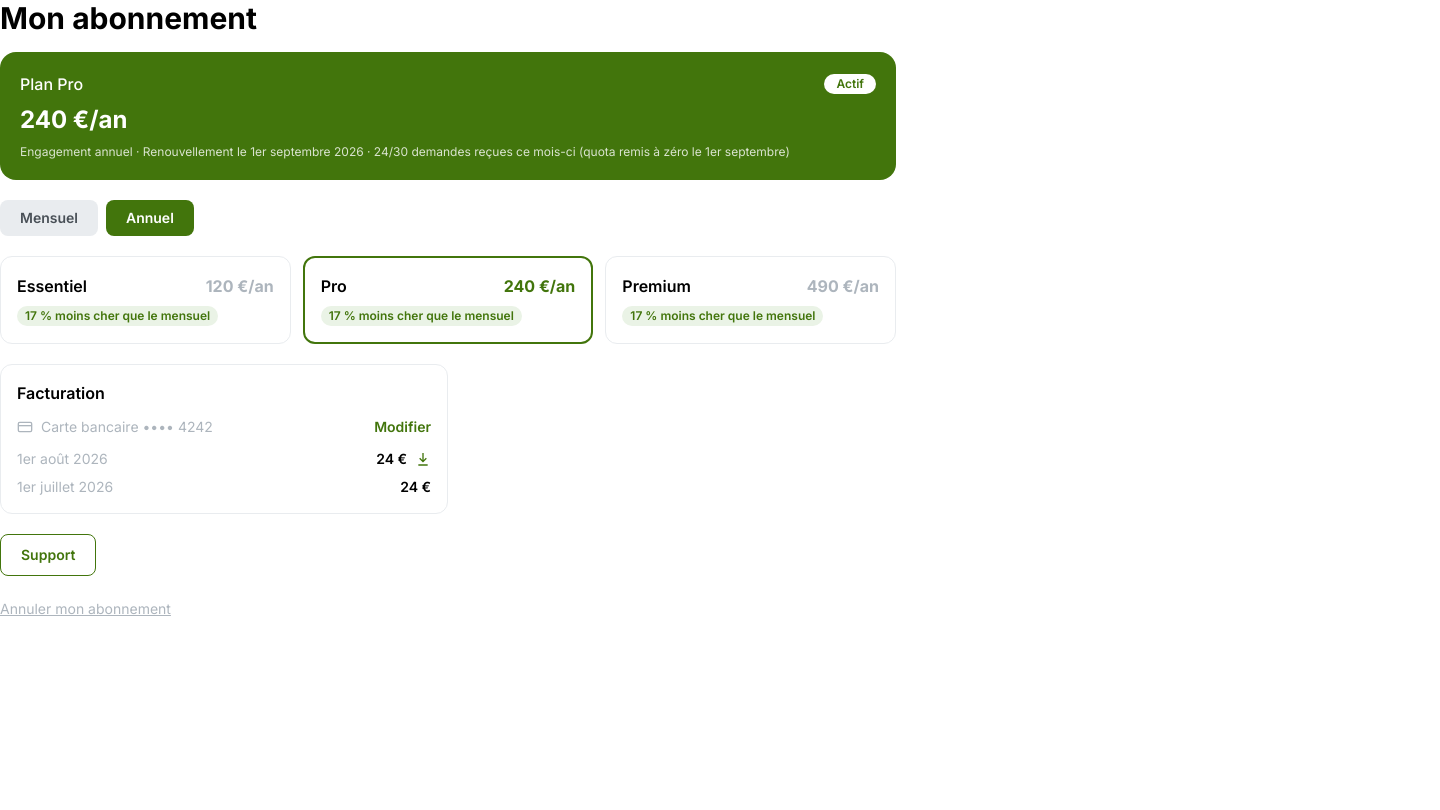
Scenario: SubscriptionComponent › sous engagement annuel, un plan plus haut en mensuel attend aussi la fin de l'engagement
Click the button "Mensuel". click: coordinates (49, 218)
box: [0,200,98,236]
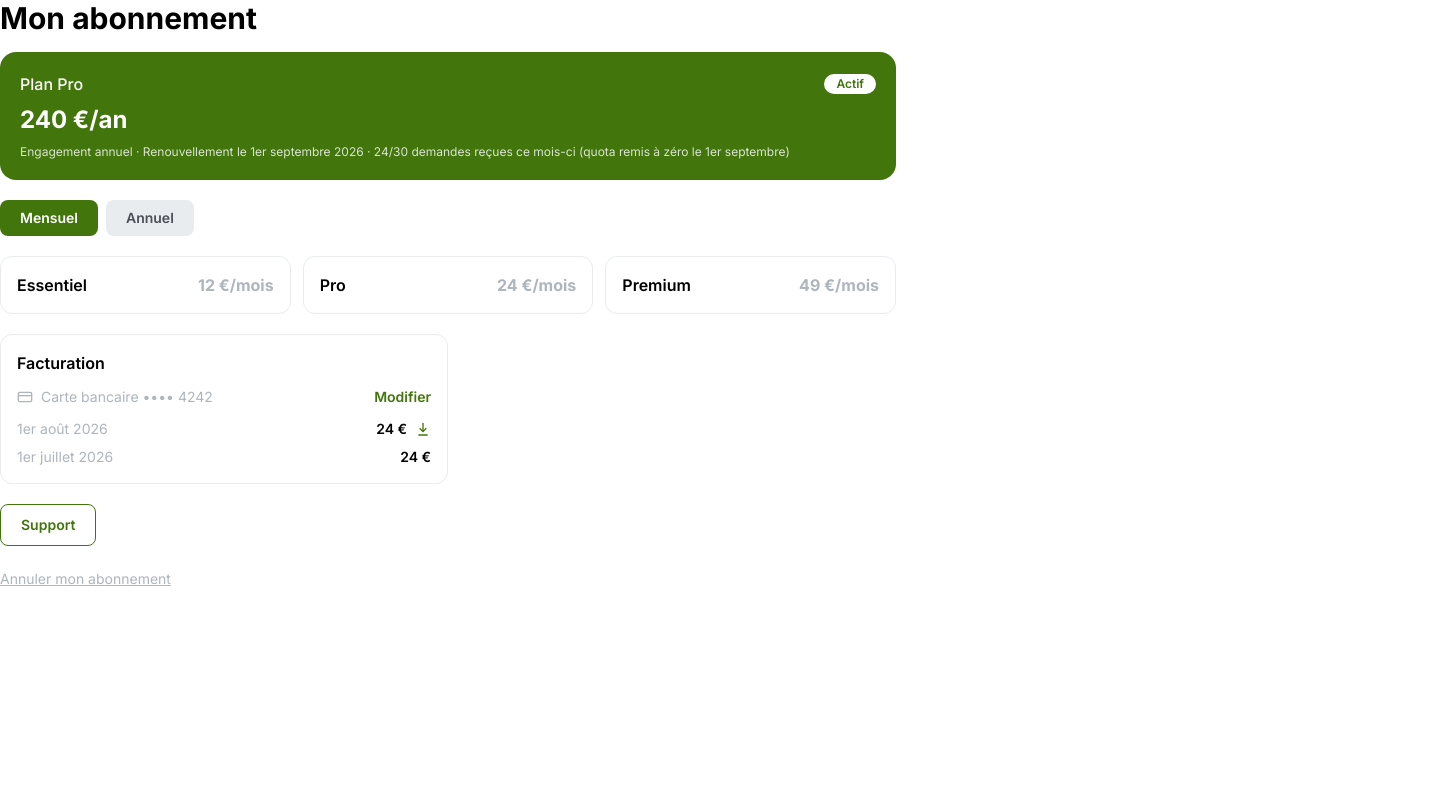
Click the button "Premium 49 €/mois". click: coordinates (657, 285)
box: [605,256,896,314]
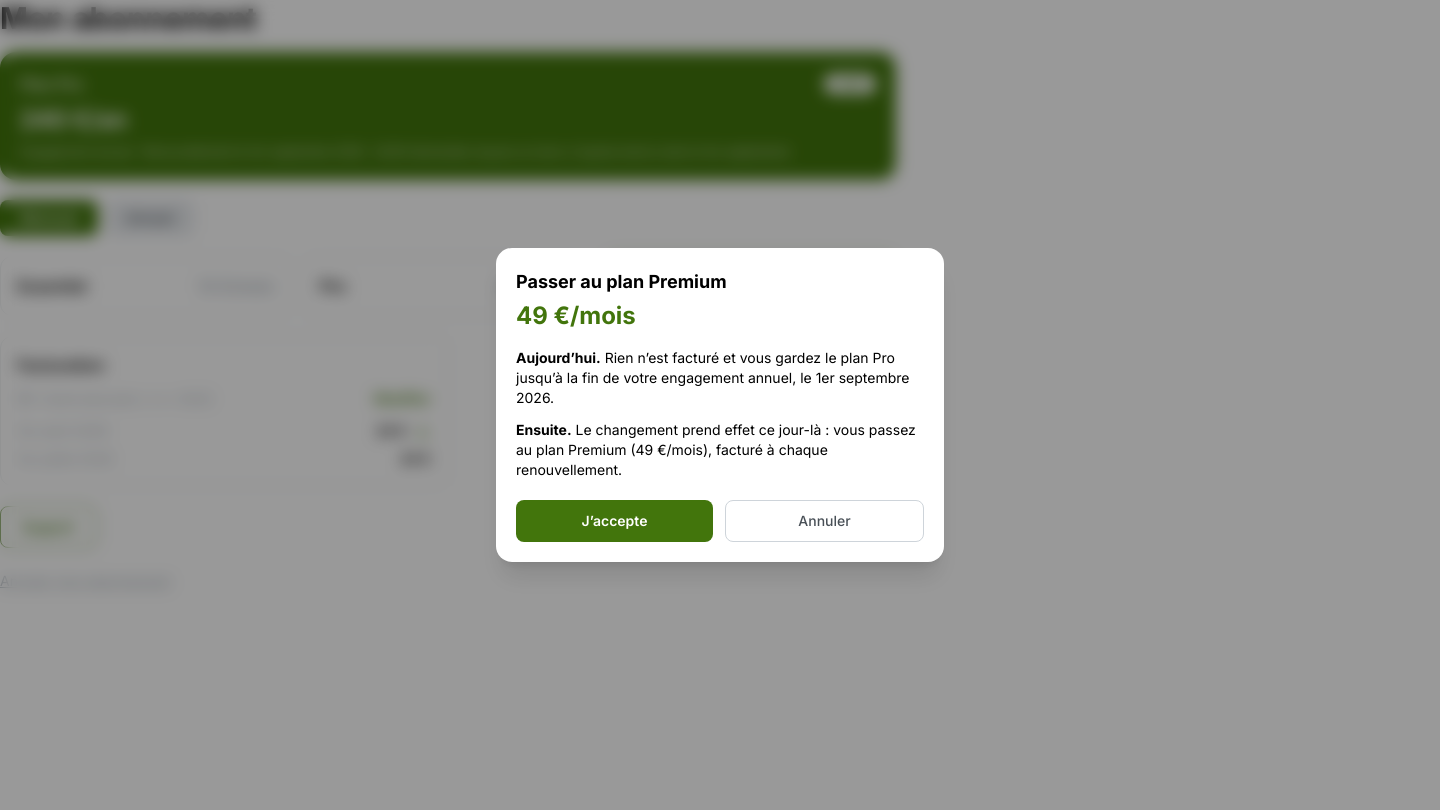
Check: the dialog shows "jusqu’à la fin de votre engagement annuel, le 1er septembre 2026", box [496,248,944,562]
Check: the dialog shows "vous passez au plan Premium (49 €/mois)", box [516,421,916,478]
